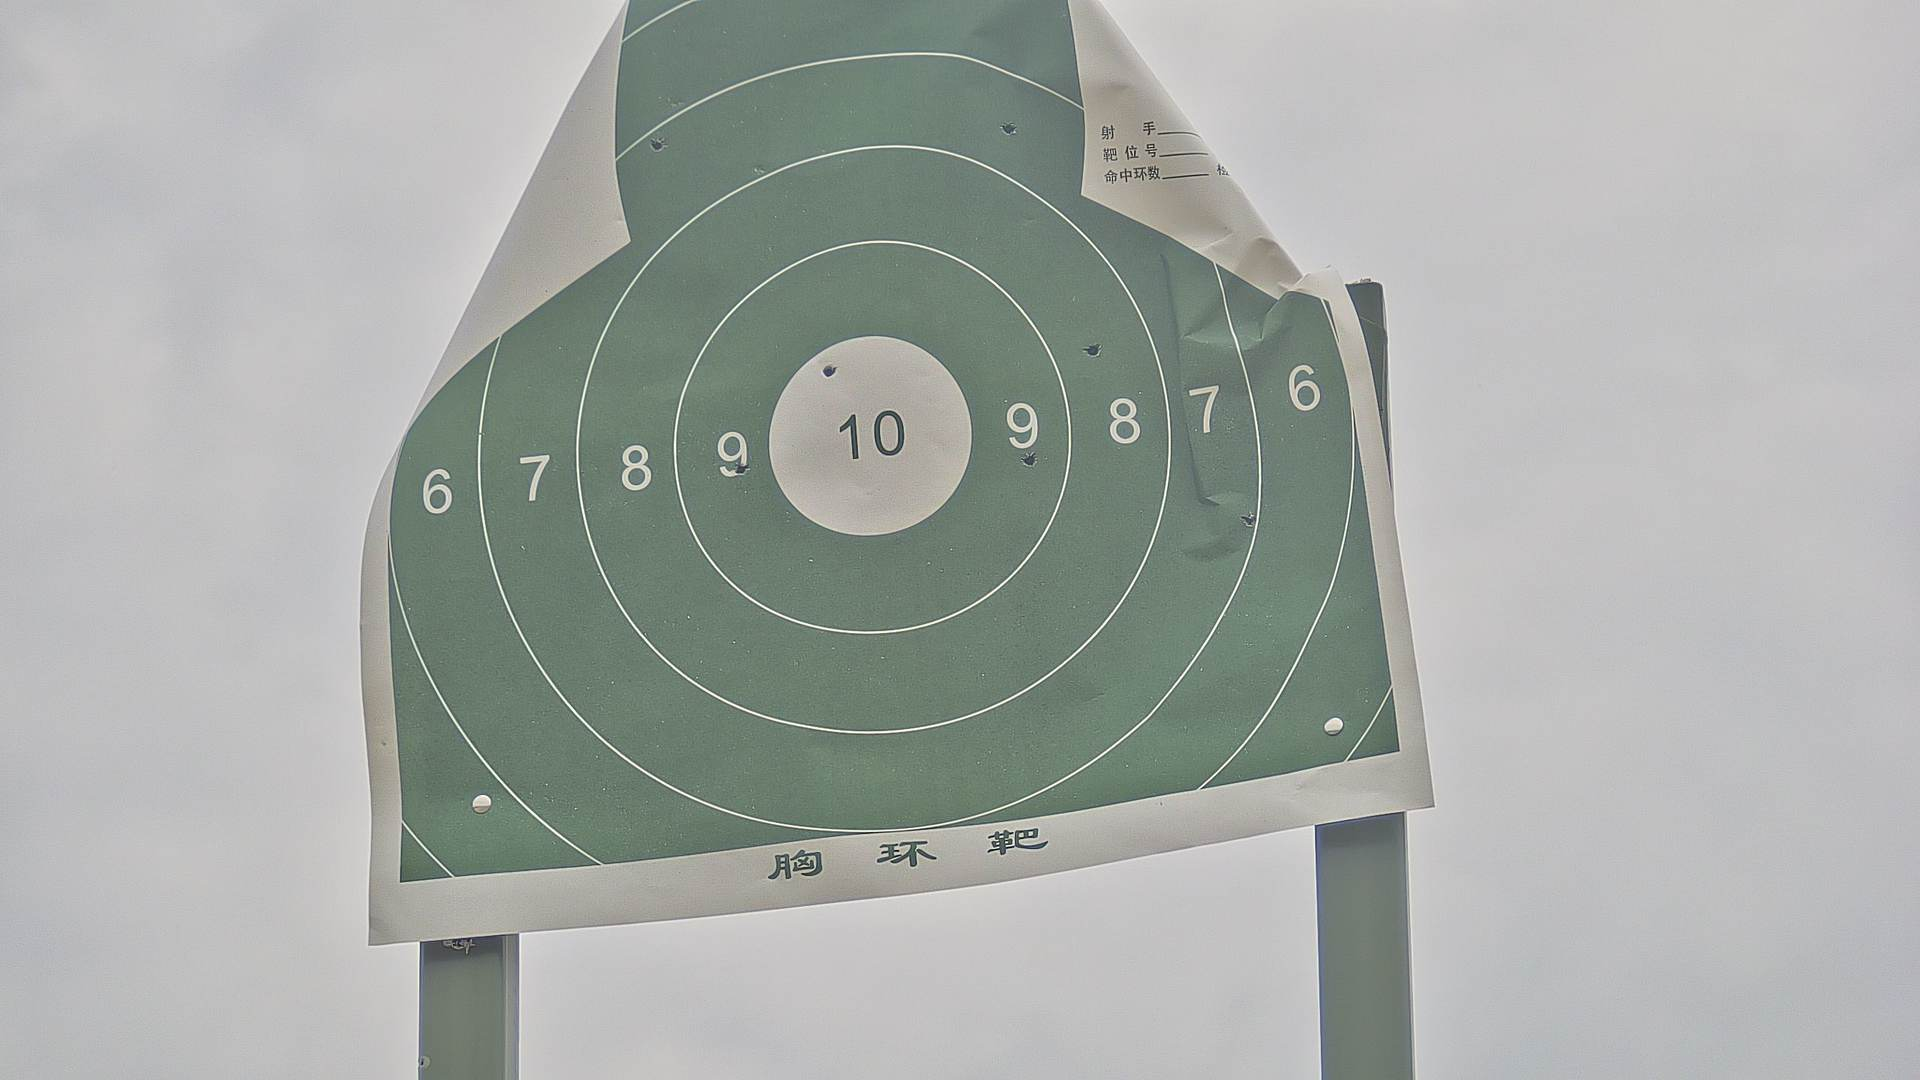hole: (1087, 342, 1101, 357), (822, 363, 836, 378), (651, 137, 665, 152), (1242, 513, 1255, 526), (1001, 123, 1015, 135), (735, 462, 749, 473), (1023, 454, 1036, 465)
target: (384, 5, 1400, 890)
ten: (767, 338, 972, 535)
